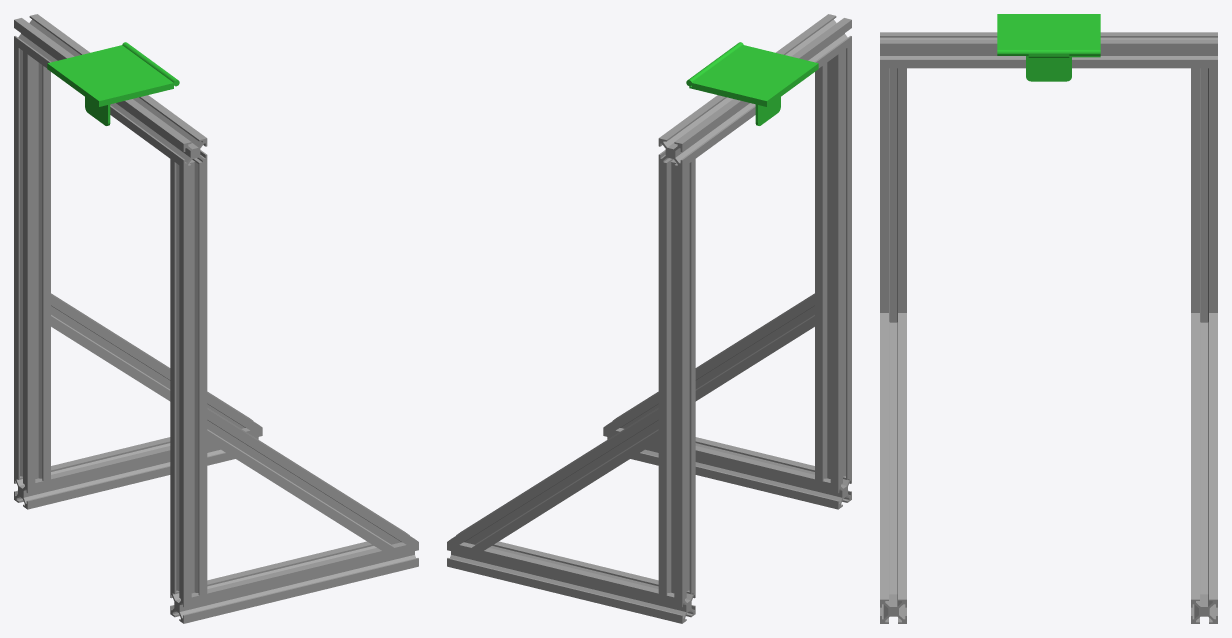
File: kinect_support_old.dae
3 renders of one model, left to right at view 1: azimuth 30°, elevation 25°; view 2: azimuth 150°, elevation 25°; view 3: azimuth 270°, elevation 25°, orthographic.
Parts seen in each view (by area): view 1: Shape_IndexedFaceSet_002, Shape_IndexedFaceSet_008, Shape_IndexedFaceSet_004, Shape_IndexedFaceSet_005, Shape_IndexedFaceSet_003, Shape_IndexedFaceSet_001, Shape_IndexedFaceSet, Shape_IndexedFaceSet_006, Shape_IndexedFaceSet_007; view 2: Shape_IndexedFaceSet_008, Shape_IndexedFaceSet_002, Shape_IndexedFaceSet_003, Shape_IndexedFaceSet, Shape_IndexedFaceSet_004, Shape_IndexedFaceSet_001, Shape_IndexedFaceSet_005, Shape_IndexedFaceSet_006, Shape_IndexedFaceSet_007; view 3: Shape_IndexedFaceSet_001, Shape_IndexedFaceSet, Shape_IndexedFaceSet_005, Shape_IndexedFaceSet_002, Shape_IndexedFaceSet_008, Shape_IndexedFaceSet_006, Shape_IndexedFaceSet_007, Shape_IndexedFaceSet_003, Shape_IndexedFaceSet_004.
Boxes of the visible parts, x1=… form: Shape_IndexedFaceSet_002: x1=170, y1=159, x2=207, y2=599; Shape_IndexedFaceSet_008: x1=14, y1=44, x2=50, y2=484; Shape_IndexedFaceSet_004: x1=170, y1=535, x2=418, y2=623; Shape_IndexedFaceSet_005: x1=207, y1=408, x2=418, y2=550; Shape_IndexedFaceSet_003: x1=14, y1=427, x2=262, y2=509; Shape_IndexedFaceSet_001: x1=14, y1=14, x2=207, y2=168; Shape_IndexedFaceSet: x1=51, y1=293, x2=262, y2=430; Shape_IndexedFaceSet_006: x1=47, y1=42, x2=179, y2=104; Shape_IndexedFaceSet_007: x1=47, y1=53, x2=173, y2=125; Shape_IndexedFaceSet_008: x1=658, y1=159, x2=695, y2=599; Shape_IndexedFaceSet_002: x1=815, y1=44, x2=851, y2=484; Shape_IndexedFaceSet_003: x1=447, y1=535, x2=695, y2=623; Shape_IndexedFaceSet: x1=447, y1=408, x2=658, y2=550; Shape_IndexedFaceSet_004: x1=603, y1=427, x2=851, y2=509; Shape_IndexedFaceSet_001: x1=658, y1=14, x2=851, y2=168; Shape_IndexedFaceSet_005: x1=603, y1=293, x2=814, y2=430; Shape_IndexedFaceSet_006: x1=686, y1=42, x2=818, y2=104; Shape_IndexedFaceSet_007: x1=689, y1=53, x2=818, y2=125; Shape_IndexedFaceSet_001: x1=880, y1=32, x2=1217, y2=68; Shape_IndexedFaceSet: x1=1191, y1=313, x2=1217, y2=599; Shape_IndexedFaceSet_005: x1=880, y1=313, x2=906, y2=599; Shape_IndexedFaceSet_002: x1=880, y1=68, x2=906, y2=322; Shape_IndexedFaceSet_008: x1=1191, y1=68, x2=1217, y2=322; Shape_IndexedFaceSet_006: x1=997, y1=14, x2=1100, y2=55; Shape_IndexedFaceSet_007: x1=1026, y1=49, x2=1100, y2=81; Shape_IndexedFaceSet_003: x1=1191, y1=594, x2=1217, y2=623; Shape_IndexedFaceSet_004: x1=880, y1=594, x2=906, y2=623.
Size of the model in its own units: 0.2218 by 0.25 by 0.3965.
